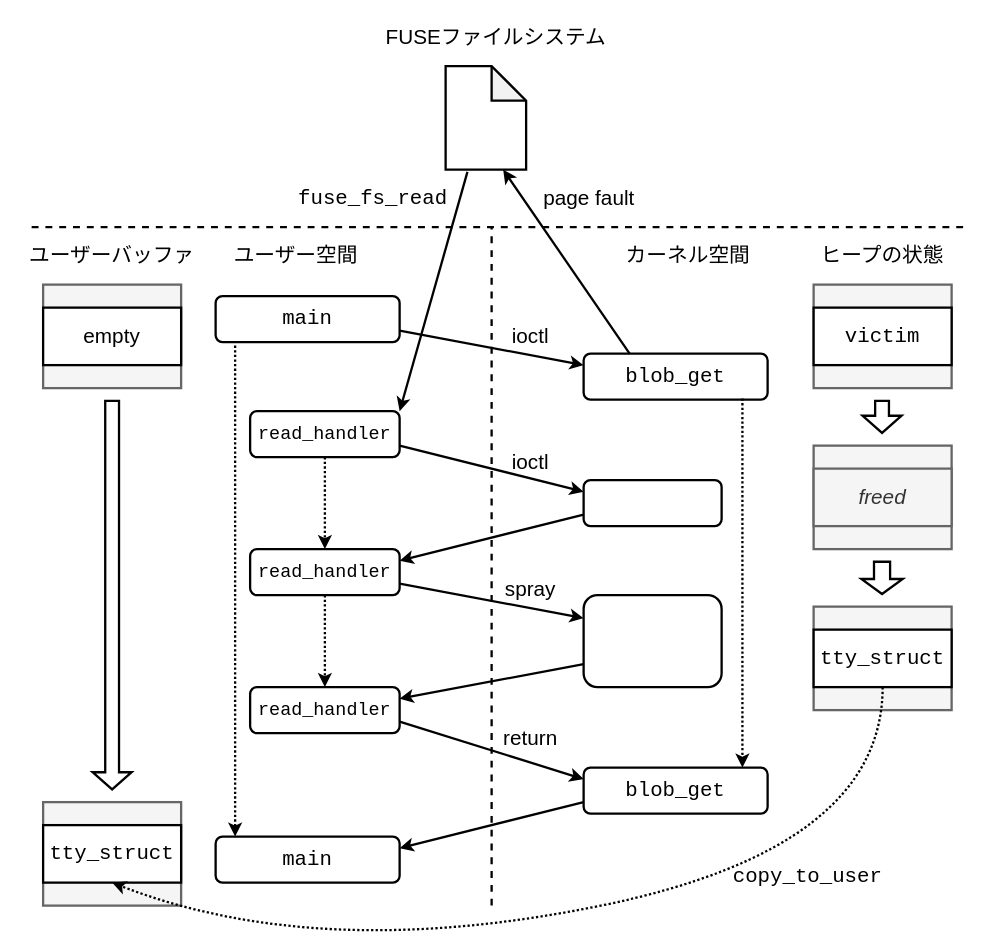
Some shapes in this 984 by 951 pixel diagram are drawn without their labels. Each missing label, with the centre of its shape:
/pwn: [485,117]
alloc tty_struct: [652,640]
blob_del: [652,502]
